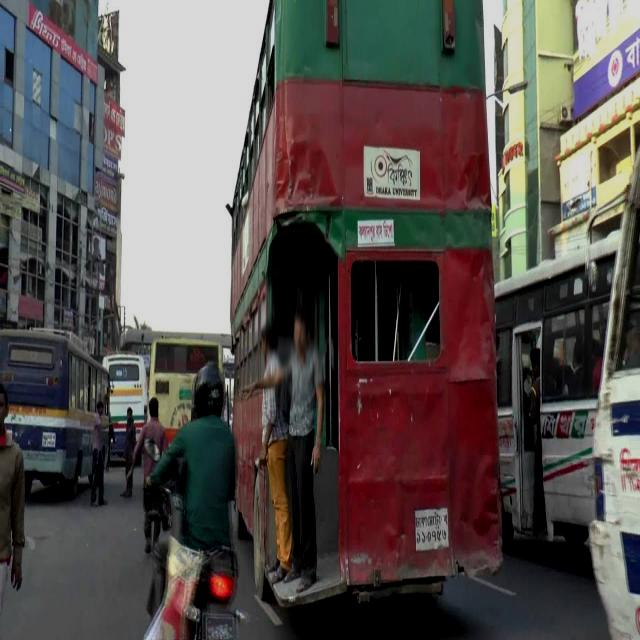bus: (231, 4, 505, 613), (497, 229, 622, 551), (591, 142, 640, 636)
